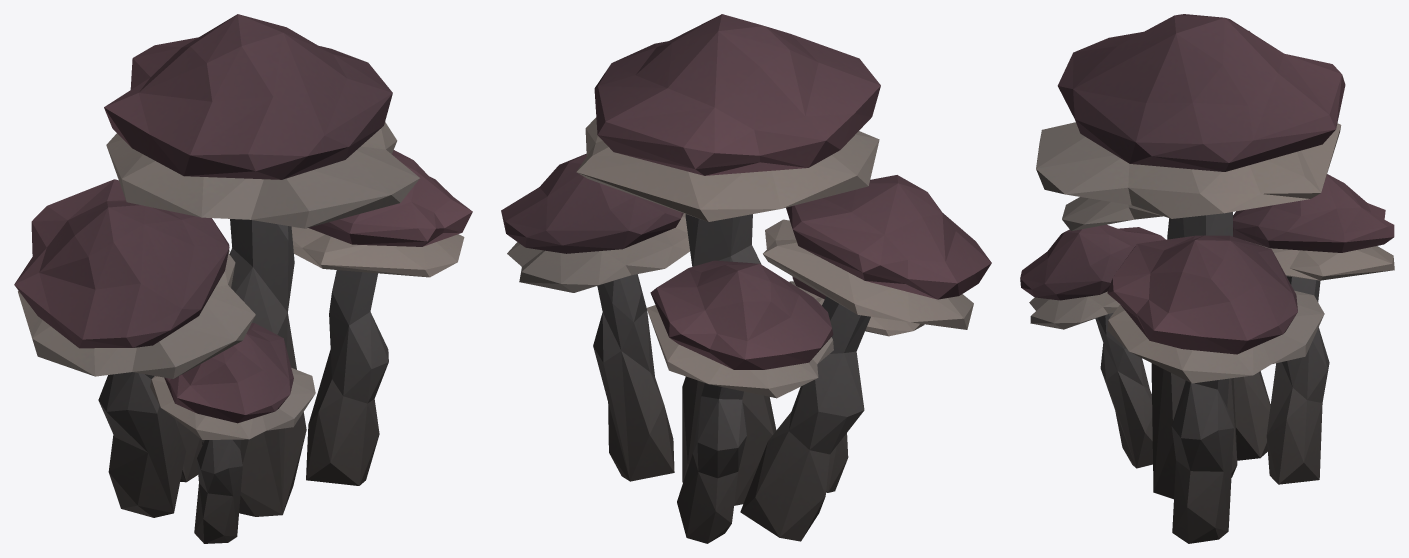
The model's file is Mush_2C.fbx.
3 views of the same model, side by side, from view 1: azimuth 30°, elevation 25°; view 2: azimuth 150°, elevation 25°; view 3: azimuth 270°, elevation 25° (orthographic).
Parts seen in each view (by area): view 1: polySurface1319; view 2: polySurface1319; view 3: polySurface1319.
Part boxes in pixels (<box>): polySurface1319: <box>14,14,472,543</box>; polySurface1319: <box>501,14,991,543</box>; polySurface1319: <box>1020,14,1394,543</box>.
Bounding box in the file's own units: 2.04 × 2.14 × 1.52.
